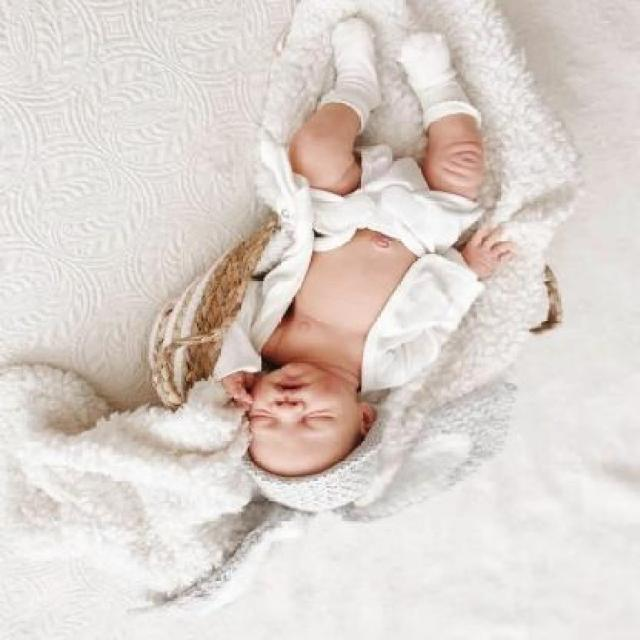baby: (214, 21, 516, 514)
